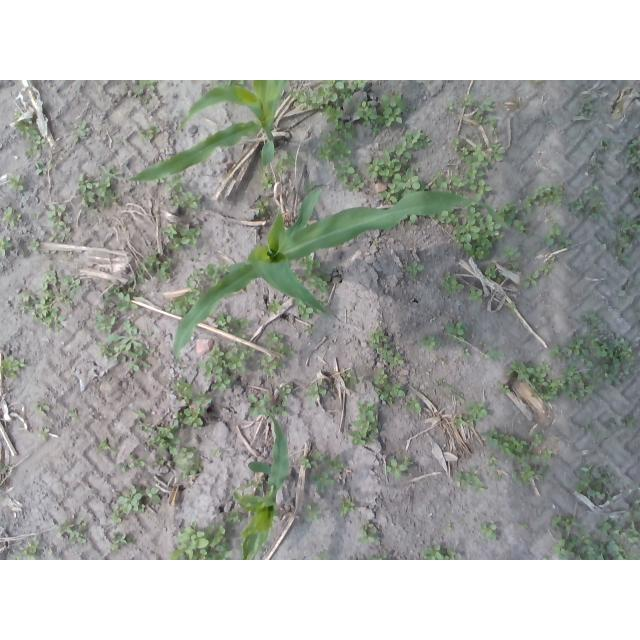Maize: (174, 182, 512, 359), (101, 81, 288, 184), (232, 408, 291, 561)
Weeds: (366, 129, 431, 180), (451, 202, 504, 259), (587, 329, 635, 387), (313, 103, 360, 162), (199, 342, 255, 391), (107, 320, 158, 373), (168, 522, 233, 560), (506, 359, 562, 403), (356, 90, 408, 134), (554, 534, 640, 560), (78, 164, 127, 209), (379, 166, 429, 205), (479, 426, 529, 462), (572, 464, 616, 504), (258, 332, 294, 377), (39, 268, 81, 306), (609, 213, 640, 264), (367, 327, 405, 368), (563, 186, 605, 223), (175, 388, 213, 428), (346, 399, 378, 446), (298, 248, 331, 292), (559, 364, 594, 404), (32, 290, 66, 330), (524, 182, 564, 214), (371, 368, 405, 405), (103, 280, 140, 313), (14, 121, 46, 159), (137, 250, 175, 282), (322, 80, 368, 106), (170, 445, 205, 478), (333, 160, 367, 193), (148, 421, 180, 456), (497, 198, 527, 235), (596, 518, 640, 543), (213, 312, 252, 340), (160, 223, 200, 250), (164, 289, 202, 316), (46, 202, 71, 243), (462, 168, 493, 201), (511, 463, 550, 488), (432, 170, 468, 195), (454, 467, 487, 494), (118, 484, 146, 515), (55, 519, 88, 545), (568, 334, 593, 367), (289, 87, 323, 111), (457, 141, 487, 167), (382, 454, 413, 479), (269, 384, 292, 417), (170, 189, 203, 211), (548, 513, 580, 535), (0, 353, 26, 380), (479, 339, 506, 365), (546, 222, 571, 250), (428, 205, 461, 225), (422, 544, 463, 560), (304, 379, 328, 406), (464, 401, 488, 427), (170, 379, 194, 405), (624, 135, 640, 174), (309, 471, 336, 494), (357, 520, 382, 544), (204, 260, 229, 284), (445, 320, 471, 343), (501, 243, 522, 271), (155, 172, 184, 192), (115, 455, 146, 473), (14, 537, 38, 560), (440, 272, 464, 295), (247, 392, 269, 417), (135, 81, 158, 104), (291, 296, 313, 320), (478, 521, 501, 543), (418, 333, 444, 352), (276, 150, 296, 174), (485, 263, 506, 285), (300, 451, 324, 470), (1, 205, 21, 227), (110, 534, 131, 554), (184, 267, 205, 287), (577, 310, 603, 326), (237, 477, 263, 493), (548, 345, 571, 363), (341, 370, 364, 388), (94, 312, 114, 332), (324, 455, 345, 474), (578, 97, 596, 119), (473, 96, 495, 114), (531, 449, 554, 466), (261, 165, 276, 191), (625, 498, 640, 523), (132, 409, 149, 431), (72, 121, 88, 144), (304, 505, 323, 524), (337, 496, 355, 516), (490, 141, 506, 163), (223, 510, 246, 525), (18, 291, 33, 313), (466, 285, 483, 304), (405, 260, 424, 277), (144, 485, 161, 503), (7, 174, 26, 190), (438, 379, 458, 394), (209, 80, 245, 88), (254, 199, 270, 217), (265, 298, 283, 314), (404, 397, 422, 413), (35, 161, 54, 176), (140, 125, 160, 139), (96, 439, 116, 453), (523, 271, 539, 288), (0, 234, 12, 256), (27, 238, 42, 255), (97, 340, 112, 357), (33, 401, 51, 415), (630, 180, 640, 205), (110, 504, 122, 524), (400, 211, 420, 223), (454, 412, 467, 430), (585, 160, 604, 172), (37, 427, 52, 441), (472, 112, 488, 125), (489, 117, 500, 135), (598, 138, 612, 151), (460, 93, 473, 107), (506, 300, 518, 315), (532, 433, 545, 446), (316, 294, 329, 307), (539, 263, 553, 275), (486, 456, 498, 469), (309, 553, 331, 560), (367, 553, 389, 560), (625, 416, 636, 429), (499, 384, 512, 395), (460, 347, 472, 358), (270, 513, 279, 527), (445, 102, 456, 113), (152, 459, 165, 468), (68, 410, 78, 421), (211, 447, 222, 457), (304, 326, 316, 335), (0, 462, 8, 475), (450, 137, 459, 148), (372, 236, 381, 245), (493, 473, 502, 482), (313, 308, 323, 316), (444, 524, 452, 533), (13, 112, 22, 120), (534, 80, 545, 84), (523, 523, 529, 528)
